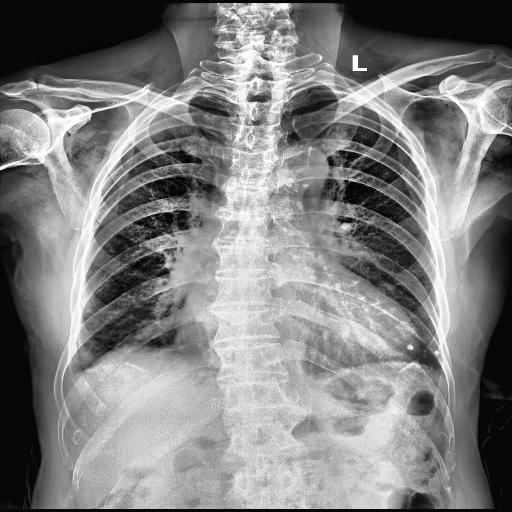0- Aortic enlargement: (270, 142, 330, 209), (270, 141, 330, 192), (281, 146, 329, 186)
10- Pleural effusion: (44, 340, 96, 398), (63, 360, 88, 386), (60, 364, 84, 388), (430, 366, 447, 384)
11- Pleural thickening: (44, 340, 96, 398), (63, 360, 88, 386), (60, 364, 84, 388), (430, 366, 447, 384)
3- Cardiomegaly: (175, 286, 420, 370), (171, 307, 423, 367), (172, 302, 418, 362)
8- Nodule-Mass: (405, 343, 415, 351), (406, 344, 414, 352), (432, 350, 441, 356), (434, 350, 440, 356)
